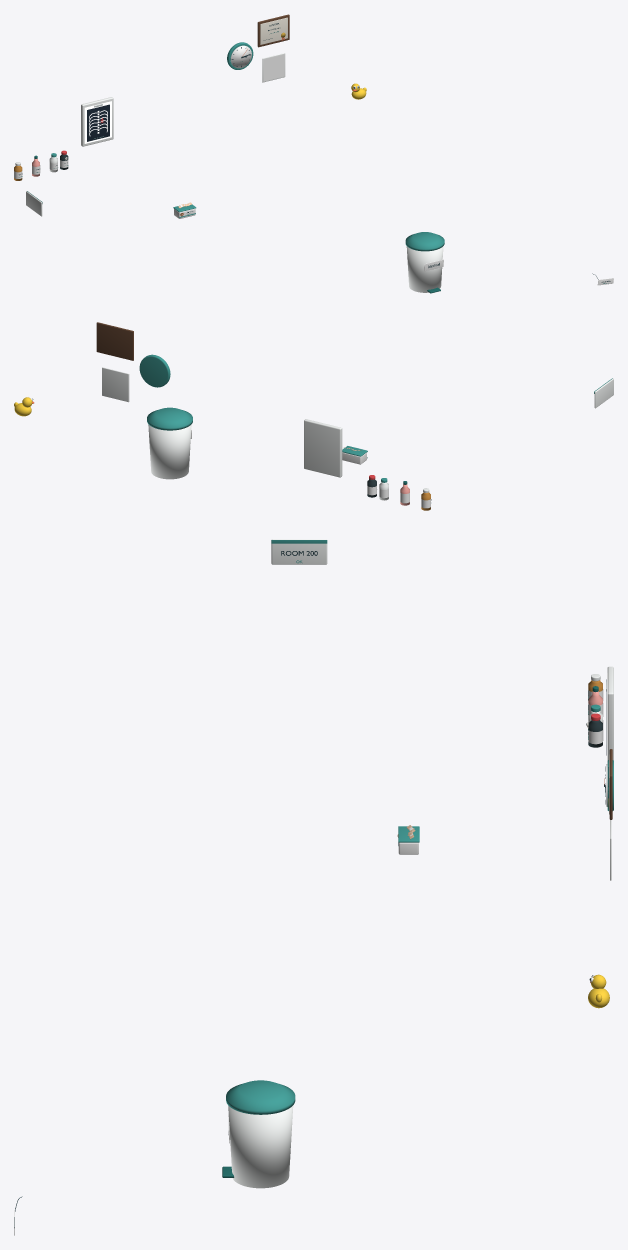
The model's file is eggs.glb.
3 views of the same model, one above another, from view 1: azimuth 30°, elevation 25°; view 2: azimuth 150°, elevation 25°; view 3: azimuth 270°, elevation 25° (orthographic). The views are drawn at different scales.
Visible parts, largest first — view 1: bin_body, xr_film, bin_lid, dip_paper, SignFace, xr_box, WallClockFace; view 2: bin_body, xr_box, dip_frame, bin_lid, sign_plate, WallClock, door_plate; view 3: bin_body, bin_lid, door_plate.
Boxes of the visible parts, x1=… form: bin_body: x1=406, y1=246, x2=443, y2=292; xr_film: x1=87, y1=104, x2=109, y2=141; bin_lid: x1=405, y1=232, x2=444, y2=251; dip_paper: x1=260, y1=17, x2=287, y2=44; SignFace: x1=263, y1=54, x2=284, y2=81; xr_box: x1=81, y1=97, x2=113, y2=146; WallClockFace: x1=230, y1=45, x2=251, y2=68; bin_body: x1=148, y1=424, x2=191, y2=479; xr_box: x1=304, y1=419, x2=342, y2=477; dip_frame: x1=96, y1=322, x2=133, y2=360; bin_lid: x1=147, y1=407, x2=192, y2=430; sign_plate: x1=102, y1=367, x2=129, y2=402; WallClock: x1=139, y1=354, x2=170, y2=387; door_plate: x1=594, y1=378, x2=613, y2=408; bin_body: x1=228, y1=1105, x2=293, y2=1188; bin_lid: x1=226, y1=1080, x2=295, y2=1114; door_plate: x1=271, y1=539, x2=327, y2=564.
Bounding box in the file's own units: 47.63 × 18.95 × 27.94.
